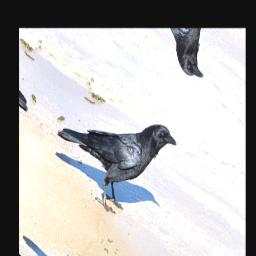Crow: (44, 66, 180, 236)
